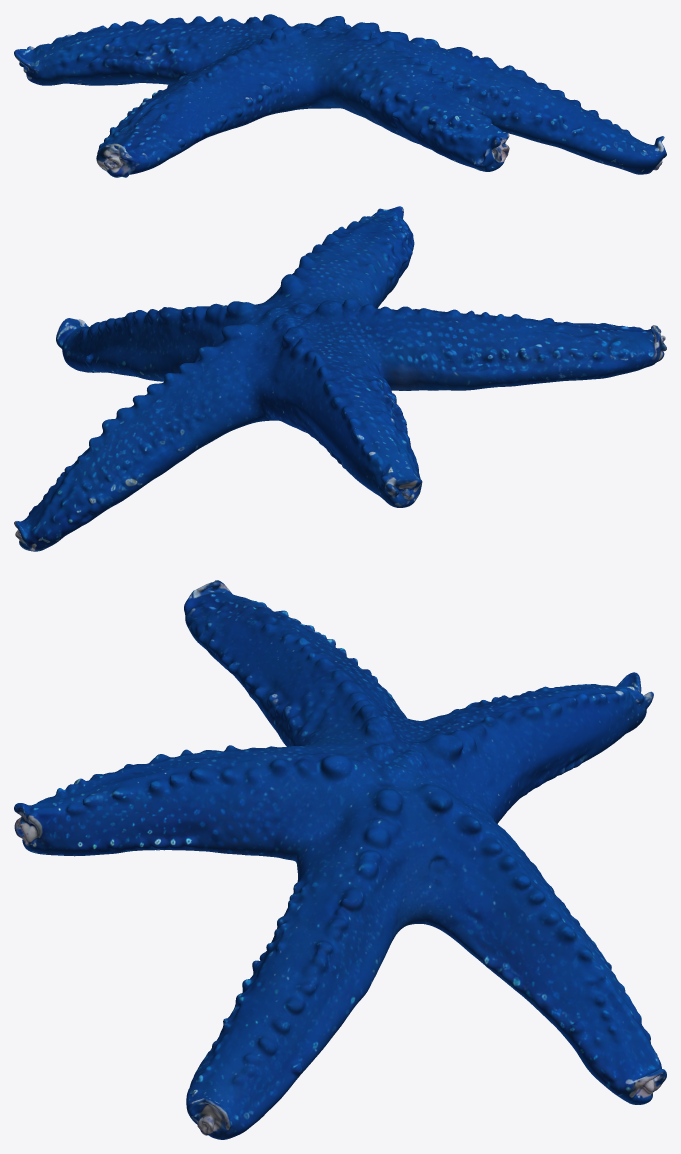
File: star_big_blue.glb
The picture shows the model from 3 angles, top to bottom: view 1: azimuth 30°, elevation 25°; view 2: azimuth 150°, elevation 25°; view 3: azimuth 270°, elevation 25°; orthographic projection. The views are drawn at different scales.
Visible parts, largest first — view 1: tripo_node_7eccdad6-f47b-42d2-bc06-402e4be4e7d3; view 2: tripo_node_7eccdad6-f47b-42d2-bc06-402e4be4e7d3; view 3: tripo_node_7eccdad6-f47b-42d2-bc06-402e4be4e7d3.
Part boxes in pixels (x1,y1,x2,y2): tripo_node_7eccdad6-f47b-42d2-bc06-402e4be4e7d3: (14,14,666,177); tripo_node_7eccdad6-f47b-42d2-bc06-402e4be4e7d3: (14,206,666,551); tripo_node_7eccdad6-f47b-42d2-bc06-402e4be4e7d3: (14,580,666,1139).
Bounding box in the file's own units: 1 × 0.3503 × 0.7607.
Materials: 1 (1 with a texture image).
